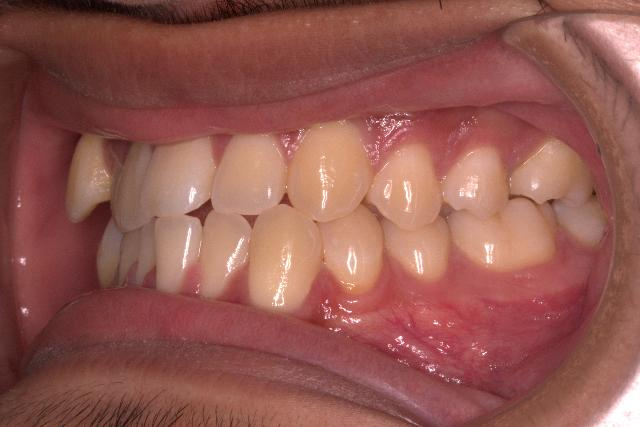canine class III 1/4: (246, 118, 386, 312)
molar class III 3/4: (442, 130, 612, 270)
